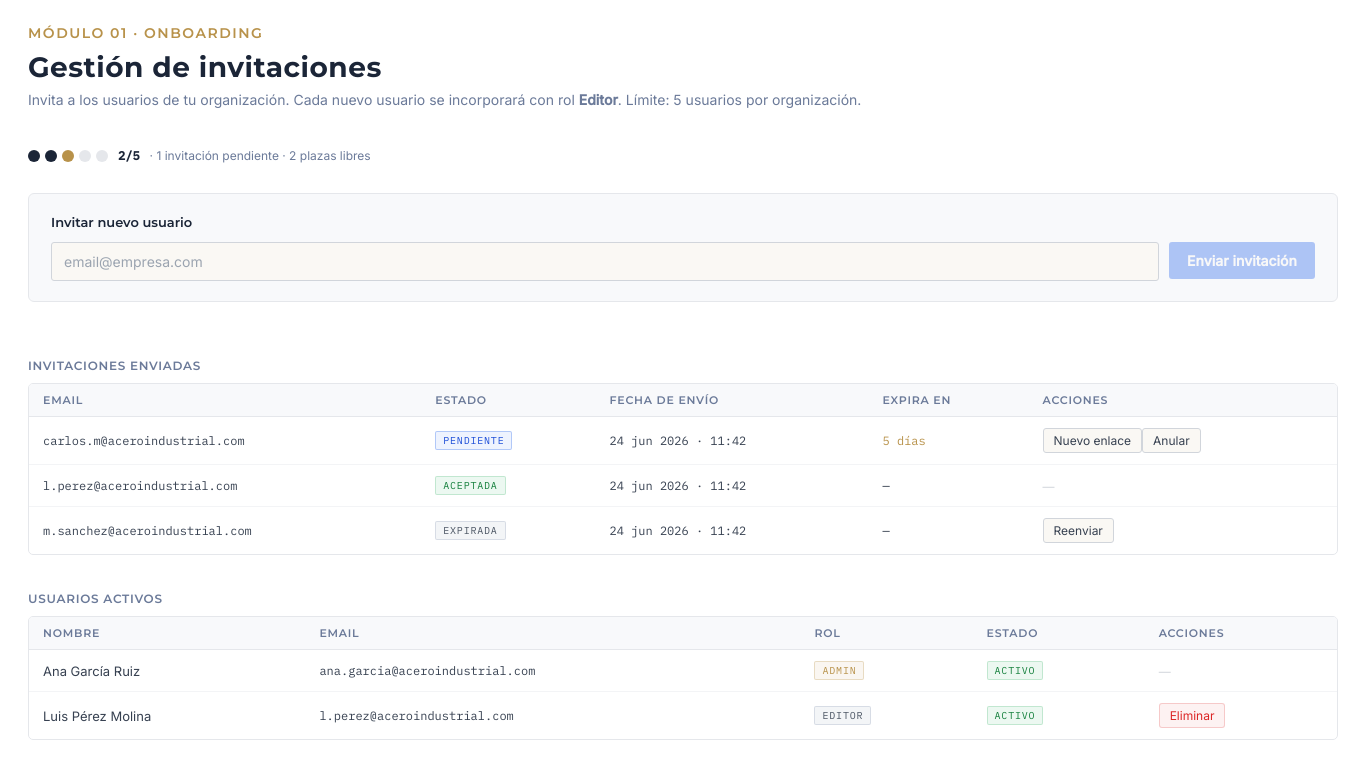
Test: INVT-01 · Invitations · invitar › si el servidor lo rechaza, dice el motivo en una alerta y NO vacía el campo
This screenshot has width=1366, height=768.
Expected: the heading "Gestión de invitaciones" is shown, [28,50,382,84]
In the field named "Email del nuevo usuario": point(605, 262) [51,242,1159,281], type "carlos.m@aceroindustrial.com"
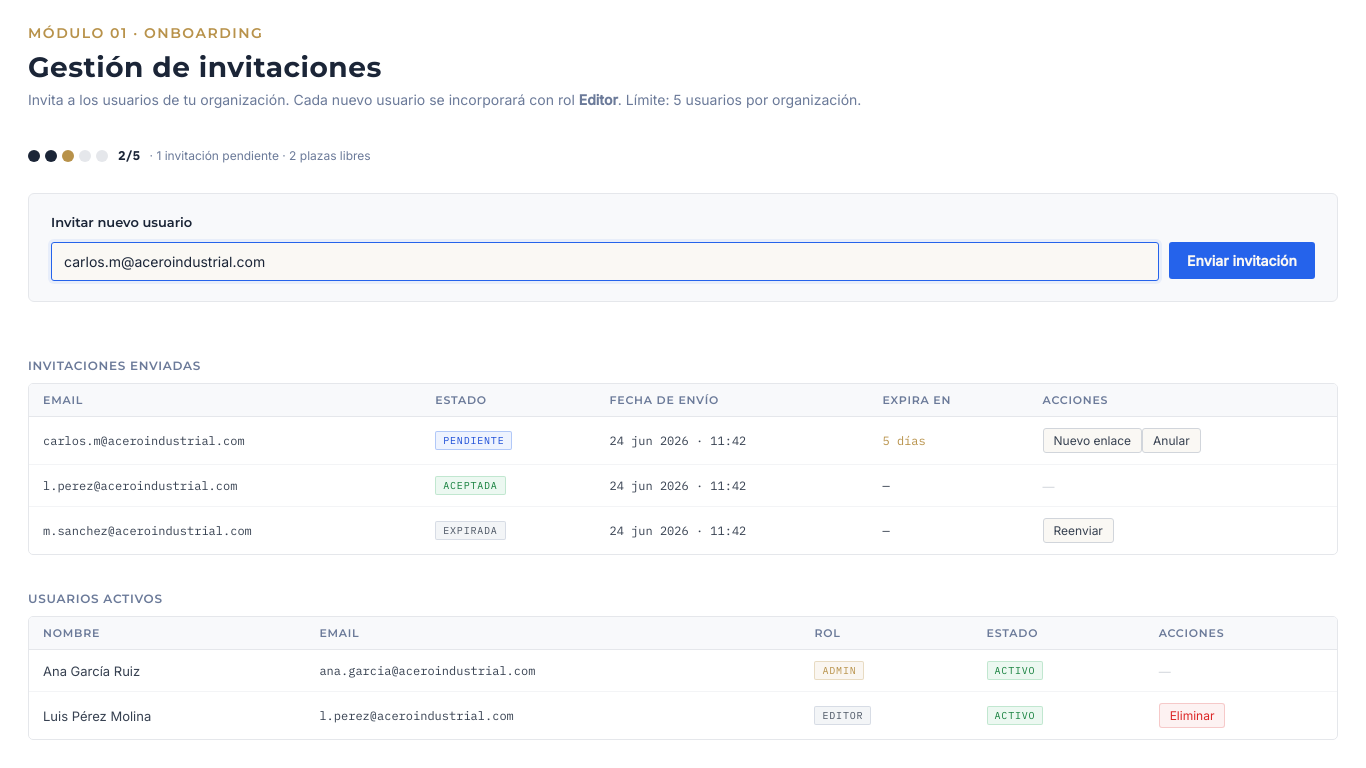
Now the button "Enviar invitación" is enabled
Click the button "Enviar invitación": point(1242, 260) [1169,242,1315,279]
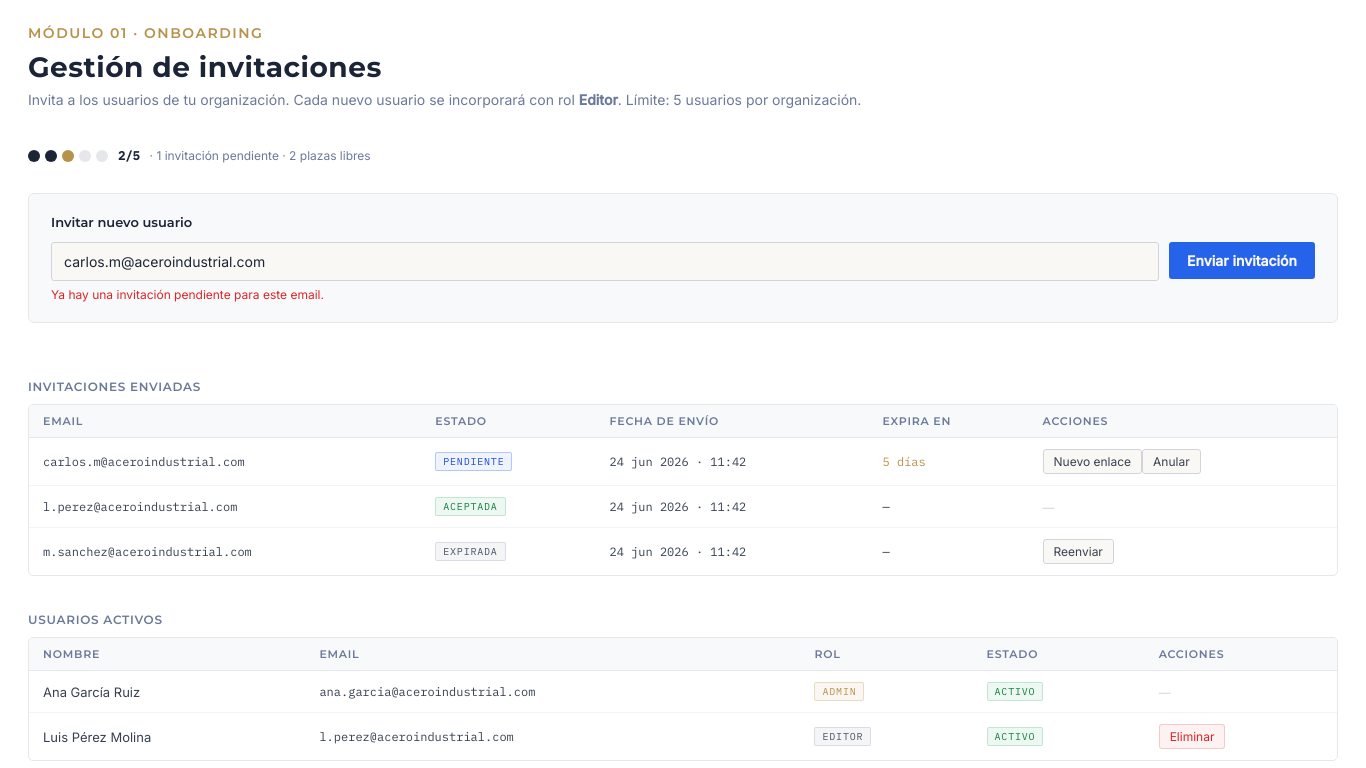
Now the message reads "Ya hay una invitación pendiente para este email.", box [51,287,324,302]
